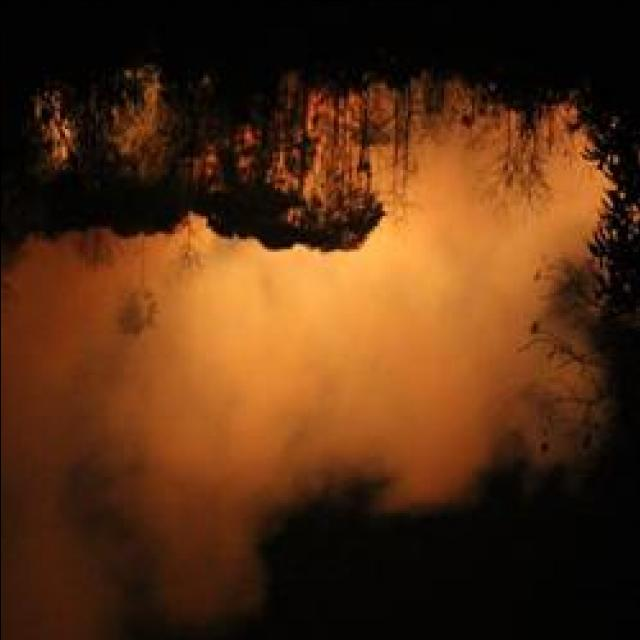smoke: (113, 248, 324, 518), (365, 237, 527, 516), (5, 525, 262, 615), (16, 266, 120, 471)
